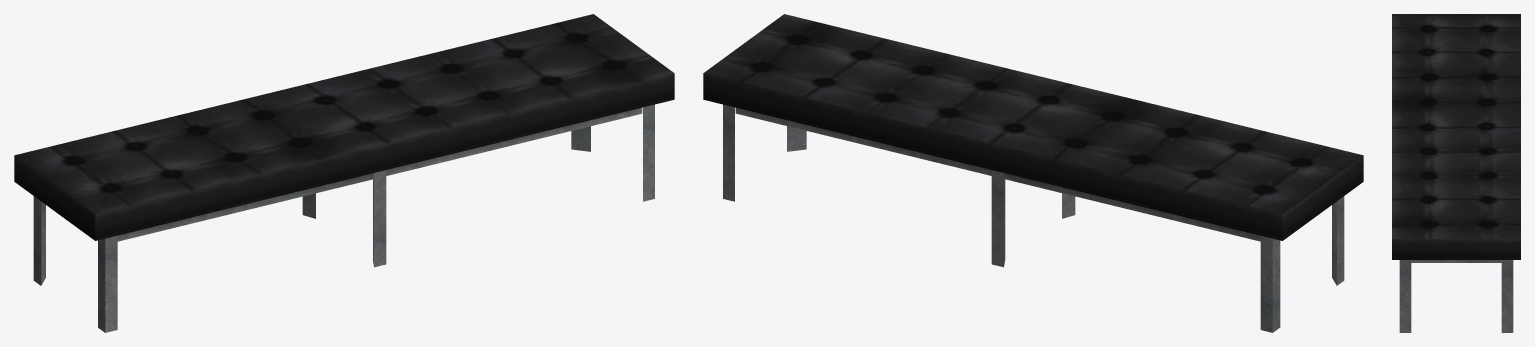
Rendered from p_jun_officebench_lod2.glb.
3 views of the same model, side by side, from view 1: azimuth 30°, elevation 25°; view 2: azimuth 150°, elevation 25°; view 3: azimuth 270°, elevation 25° (orthographic). The views are drawn at different scales.
Visible parts, largest first — view 1: surf0; view 2: surf0; view 3: surf0.
Boxes of the visible parts, box(x1,y1,x2,y2) form: surf0: box(14, 14, 674, 332); surf0: box(703, 14, 1363, 332); surf0: box(1392, 14, 1520, 332).
Size of the model in its own units: 85.61 by 17.72 by 20.7.
